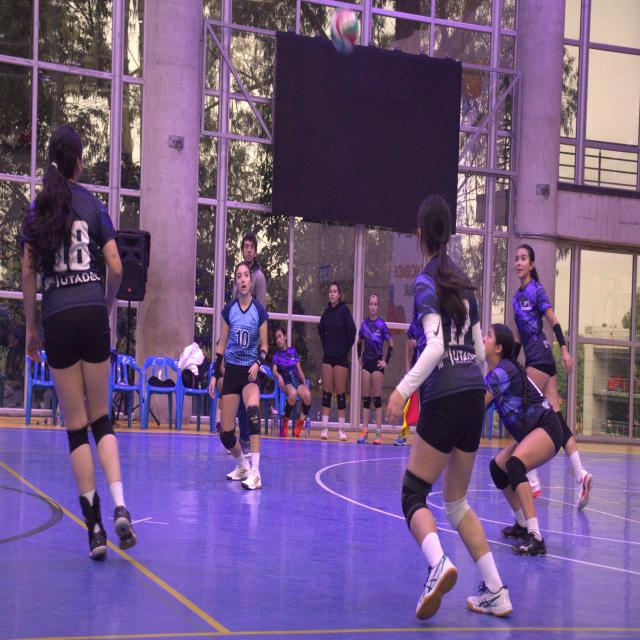volleyball: (330, 9, 360, 54)
